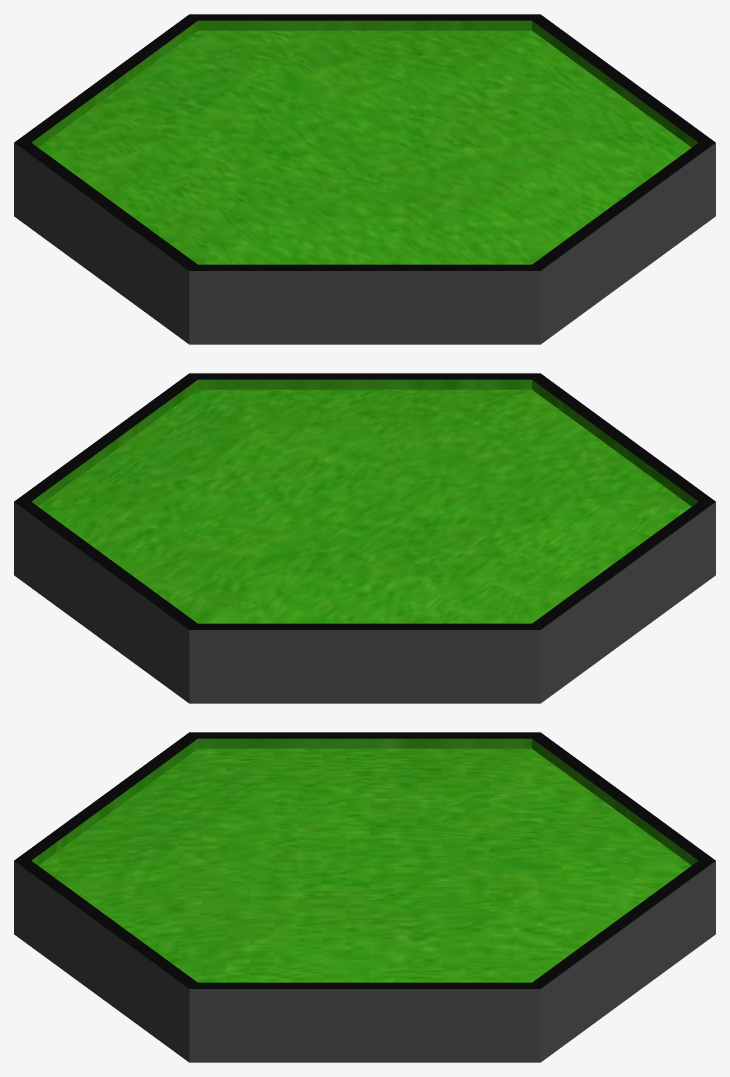
File: SimpleHex.fbx
3 views of the same model, one above another, from view 1: azimuth 30°, elevation 25°; view 2: azimuth 150°, elevation 25°; view 3: azimuth 270°, elevation 25° (orthographic).
Visible parts, largest first — view 1: Cylinder; view 2: Cylinder; view 3: Cylinder.
Part boxes in pixels (box(x1,y1,x2,y2)): Cylinder: box(14, 14, 715, 344); Cylinder: box(14, 373, 715, 703); Cylinder: box(14, 732, 715, 1062).
Bounding box in the file's own units: 550 × 73.48 × 635.
